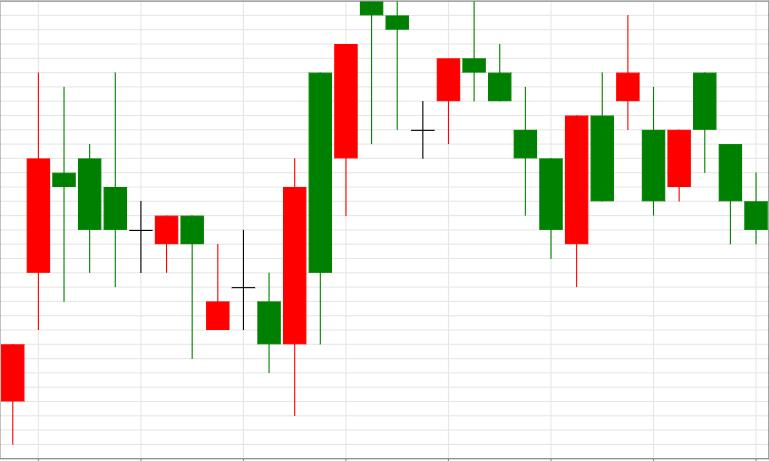bullish_engulfing_rise: (463, 2, 589, 287)
inverse_hammer_rise: (53, 72, 229, 358)
